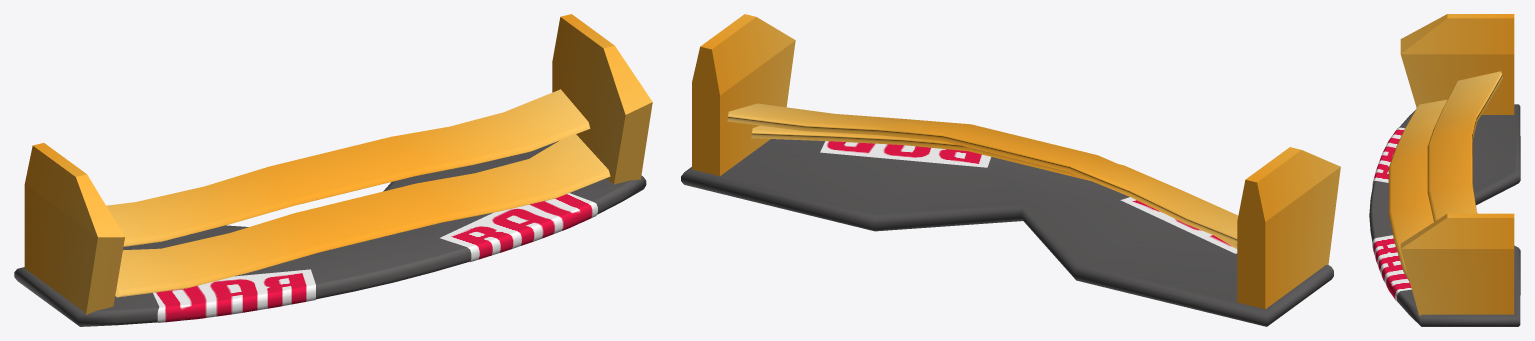
The model's file is Car_06_FrontBumper_Simple.fbx.
3 renders of one model, left to right at view 1: azimuth 30°, elevation 25°; view 2: azimuth 150°, elevation 25°; view 3: azimuth 270°, elevation 25°, orthographic. The views are drawn at different scales.
Visible parts, largest first — view 1: Car_06_FrontBumper_Simple; view 2: Car_06_FrontBumper_Simple; view 3: Car_06_FrontBumper_Simple.
Part boxes in pixels (<box>): Car_06_FrontBumper_Simple: <box>14,14,652,326</box>; Car_06_FrontBumper_Simple: <box>681,14,1340,326</box>; Car_06_FrontBumper_Simple: <box>1369,14,1520,326</box>.
Bounding box in the file's own units: 231 × 68.79 × 53.16.
